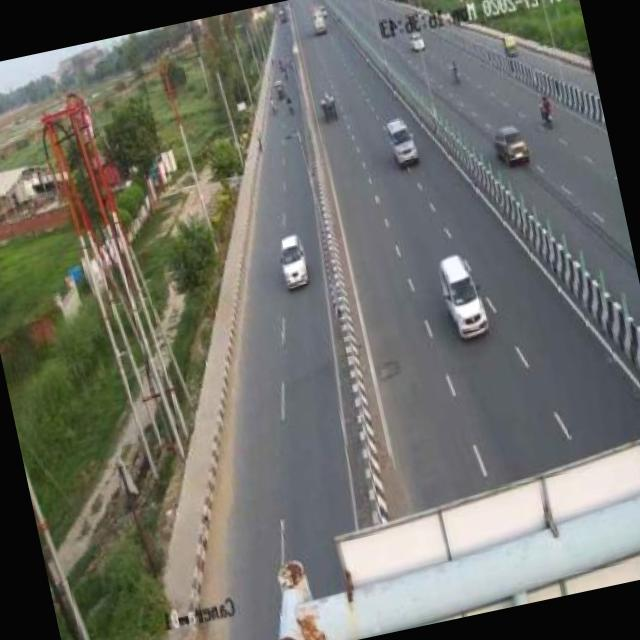car: (435, 245, 492, 339), (268, 226, 316, 295), (379, 110, 424, 167), (493, 128, 532, 170)
